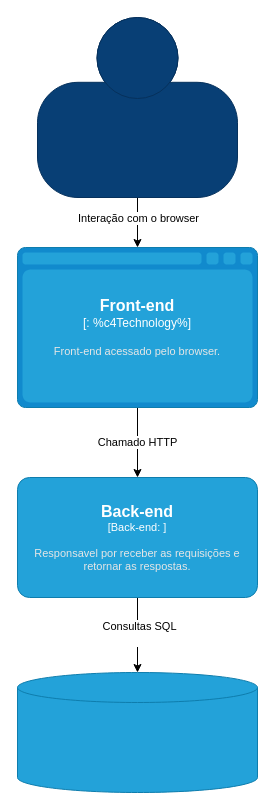
This 275x810 diagram has some shape labels left out. Each missing label, with the centre of its shape:
Banco de dados [Banco de dados: ] Banco de dados: (x=137, y=732)
Browser [Usuário]: (x=137, y=107)
